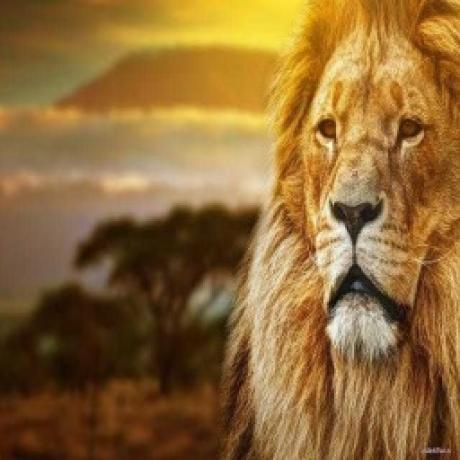Lion: (228, 0, 460, 460)
